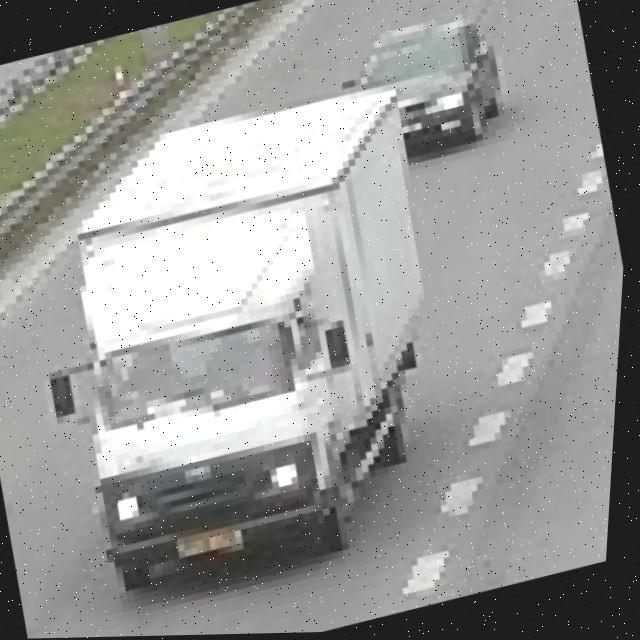truck: (0, 58, 494, 606)
